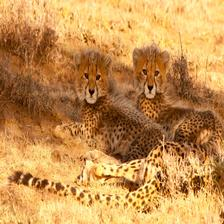Cheetah: (9, 49, 175, 214), (129, 45, 224, 192)
